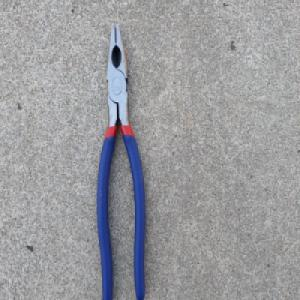Pliers: (95, 18, 148, 300)
